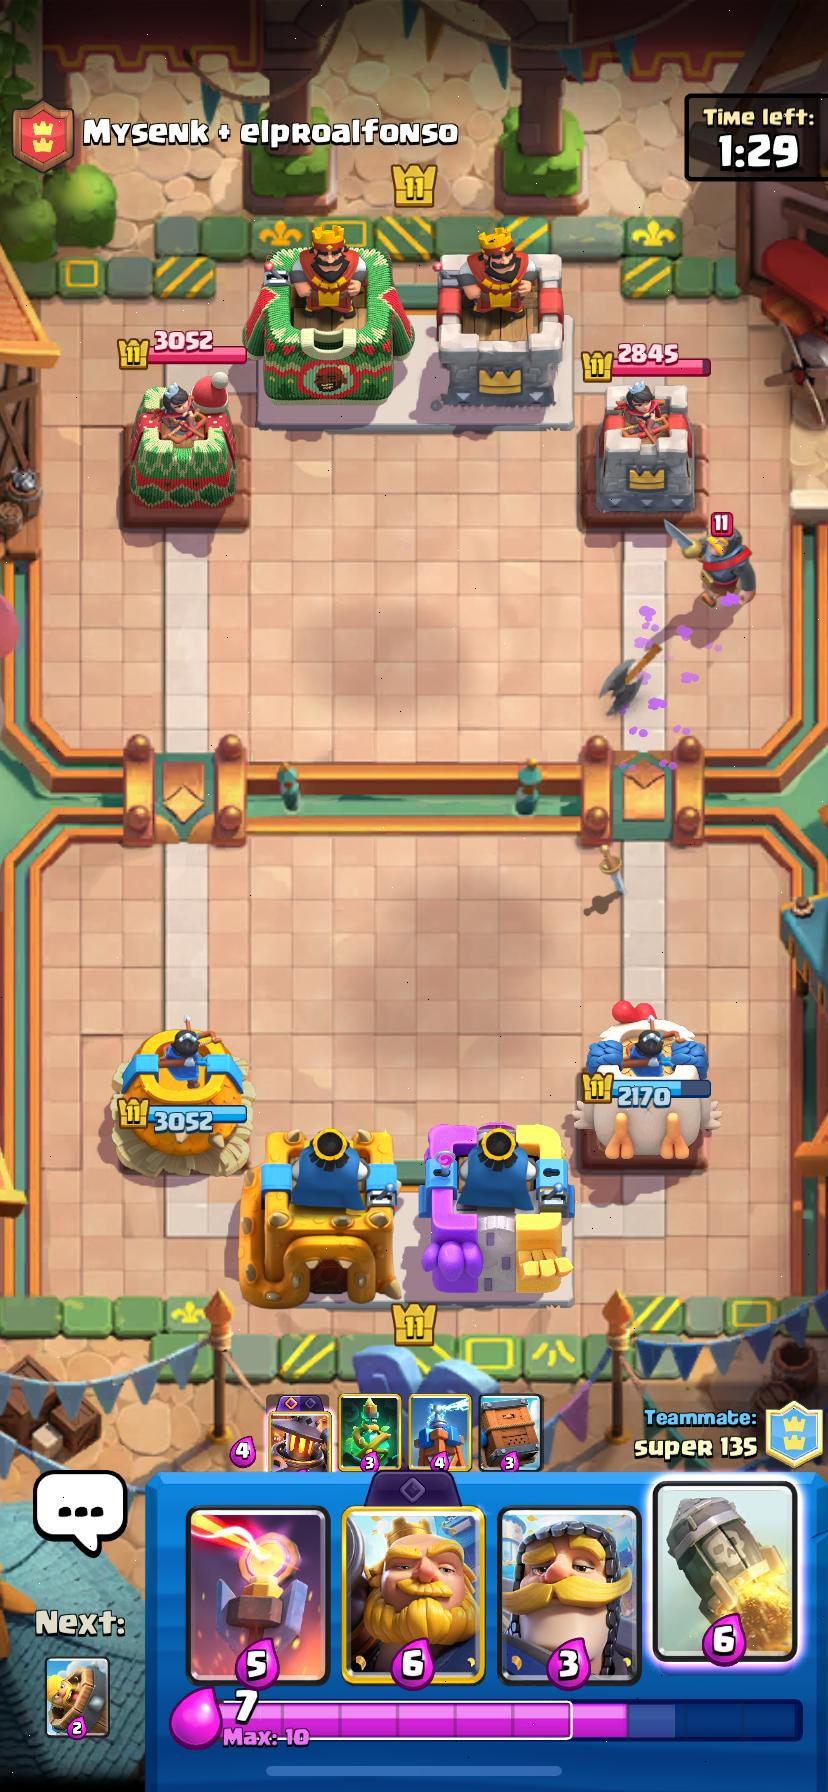EKingTower: (242, 231, 416, 408), (431, 246, 565, 407)
EKnight: (674, 514, 756, 605)
EnemyPrincessTower: (120, 379, 250, 523), (591, 381, 698, 517)
OwnKingTower: (236, 1126, 401, 1305), (415, 1129, 575, 1295)
OwnPrincessTower: (575, 1005, 718, 1173), (110, 1017, 261, 1176)
